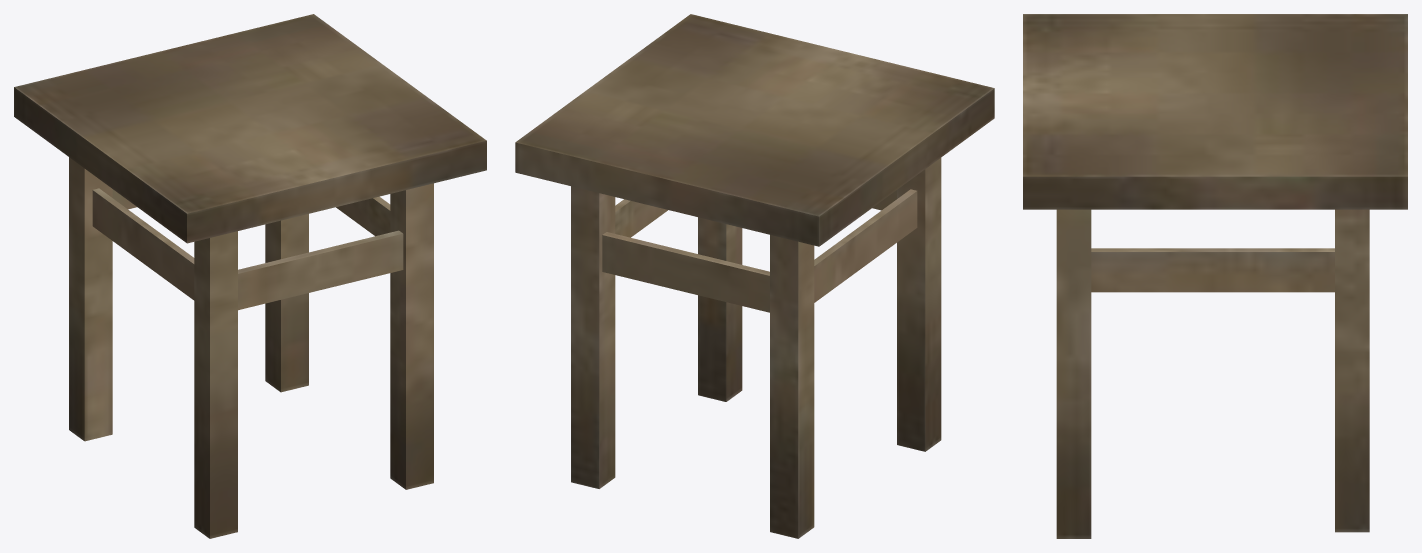
Rendered from Stool.fbx.
3 renders of one model, left to right at view 1: azimuth 30°, elevation 25°; view 2: azimuth 150°, elevation 25°; view 3: azimuth 270°, elevation 25°, orthographic. The views are drawn at different scales.
Parts seen in each view (by area): view 1: Stool; view 2: Stool; view 3: Stool.
Part boxes in pixels (x1,y1,x2,y2): Stool: [14, 14, 486, 538]; Stool: [515, 14, 994, 538]; Stool: [1023, 14, 1407, 538].
Bounding box in the file's own units: 102 × 113 × 102.
1 material, 1 textured.
